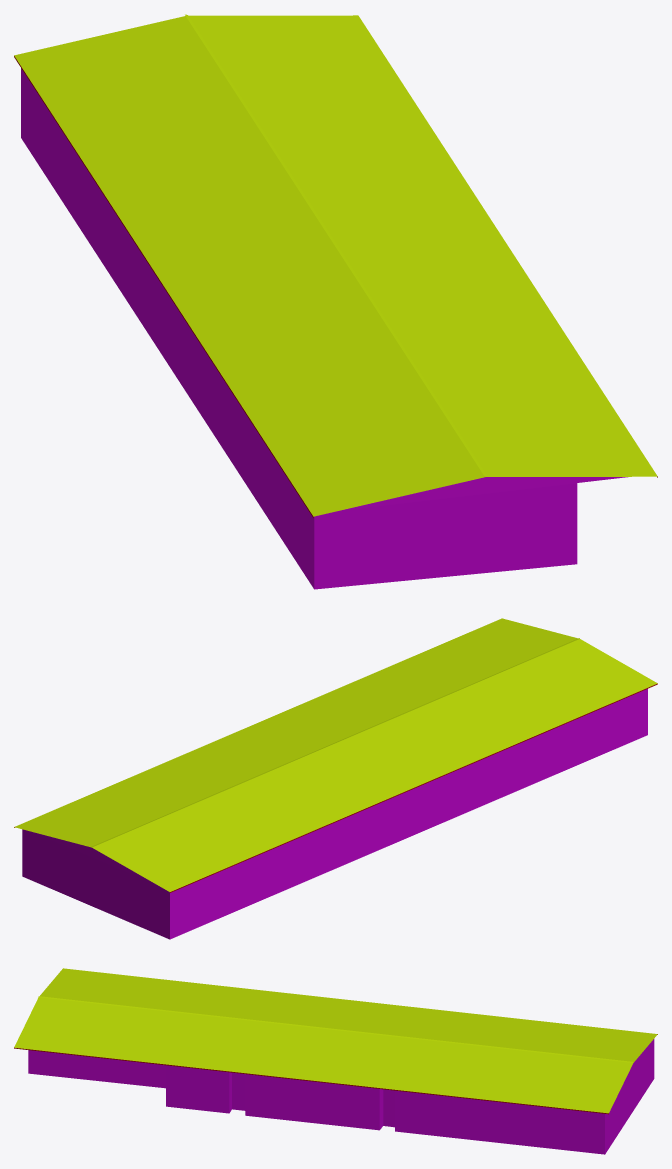
File: sag_8.glb
3 views of the same model, one above another, from view 1: azimuth 30°, elevation 25°; view 2: azimuth 150°, elevation 25°; view 3: azimuth 270°, elevation 25° (orthographic). The views are drawn at different scales.
Visible parts, largest first — view 1: sag_8; view 2: sag_8; view 3: sag_8.
Boxes of the visible parts, x1,y1,x2,y2 form: sag_8: (14, 14, 657, 589); sag_8: (14, 618, 657, 939); sag_8: (14, 968, 657, 1154).
Bounding box in the file's own units: 45.1 × 8.01 × 84.6.
